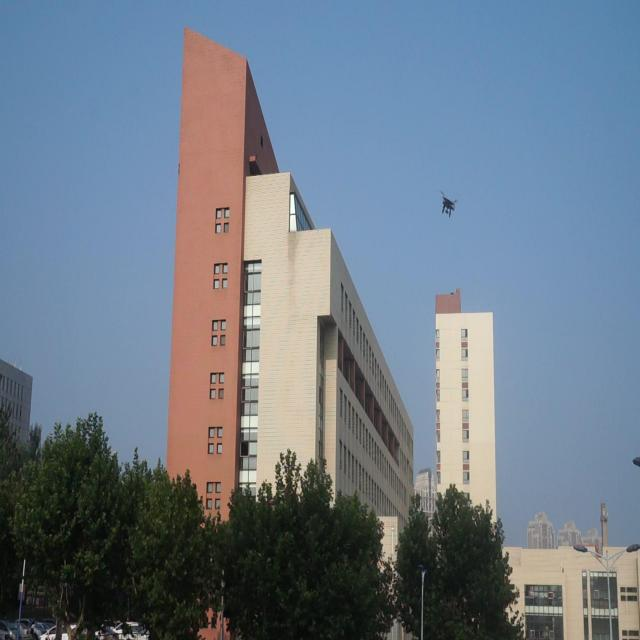UAV: (440, 190, 459, 218)
